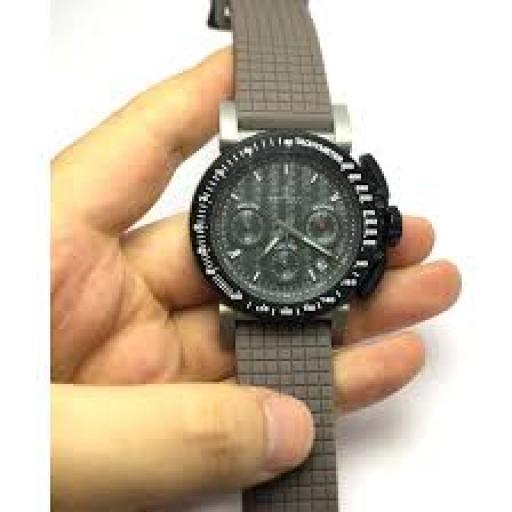KolSaati: (168, 0, 408, 505)
